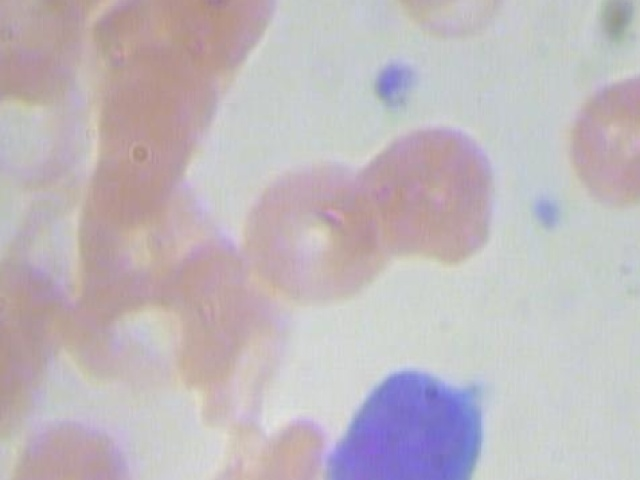Platelets: (363, 51, 428, 119), (508, 174, 573, 241)
RBC: (347, 109, 510, 284), (227, 139, 390, 314), (148, 227, 311, 402), (85, 23, 248, 197), (0, 242, 89, 417), (0, 44, 97, 190), (559, 61, 640, 206), (0, 403, 152, 480), (140, 0, 288, 66), (156, 442, 319, 480), (0, 292, 29, 467), (16, 0, 139, 29), (367, 0, 499, 13), (622, 421, 640, 480), (0, 50, 1, 196)
WBC: (302, 353, 525, 480)
